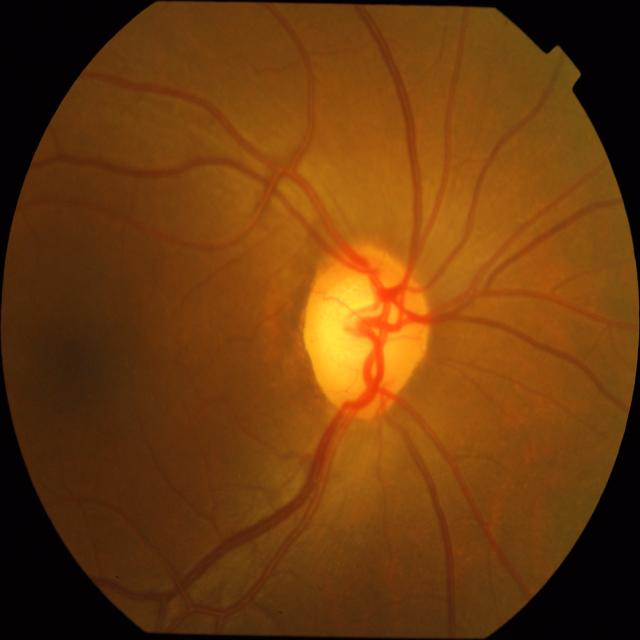OC: (311, 277, 392, 365)
OD: (302, 245, 432, 421)
